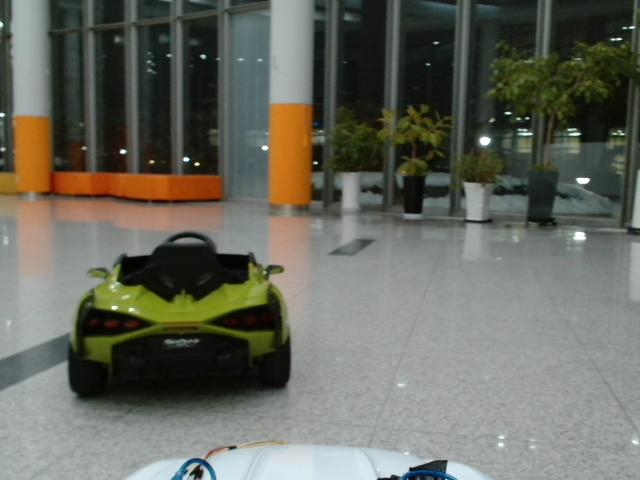car: (69, 231, 292, 399)
